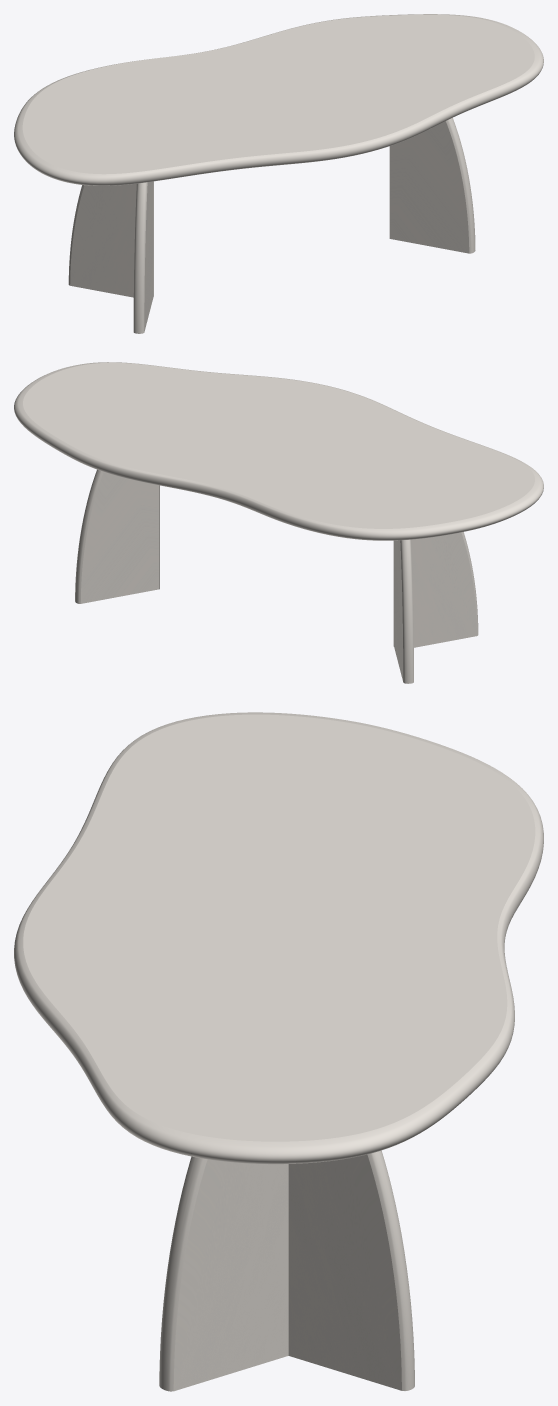
File: pearlwhite_toplast_round_newtable2.glb
3 renders of one model, top to bottom at view 1: azimuth 30°, elevation 25°; view 2: azimuth 150°, elevation 25°; view 3: azimuth 270°, elevation 25°, orthographic. The views are drawn at different scales.
Parts seen in each view (by area): view 1: round_toplast, newtable2_singleright2, newtable2_singleleft1, newtable2_singleright1; view 2: round_toplast, newtable2_singleleft2, newtable2_singleright1, newtable2_singleleft1; view 3: round_toplast, newtable2_singleright2, newtable2_singleleft2.
Part boxes in pixels (box(x1,y1,x2,y2)): round_toplast: box(14, 14, 543, 185); newtable2_singleright2: box(389, 118, 475, 253); newtable2_singleleft1: box(68, 181, 153, 297); newtable2_singleright1: box(133, 181, 153, 333); round_toplast: box(14, 362, 543, 540); newtable2_singleleft2: box(75, 469, 159, 603); newtable2_singleright1: box(393, 532, 478, 647); newtable2_singleleft1: box(394, 539, 413, 683); round_toplast: box(14, 712, 543, 1164); newtable2_singleright2: box(159, 1156, 288, 1391); newtable2_singleleft2: box(288, 1150, 414, 1390).
Size of the model in its own units: 7.5 by 2.49 by 3.8.
Materials: 1 (1 with a texture image).
